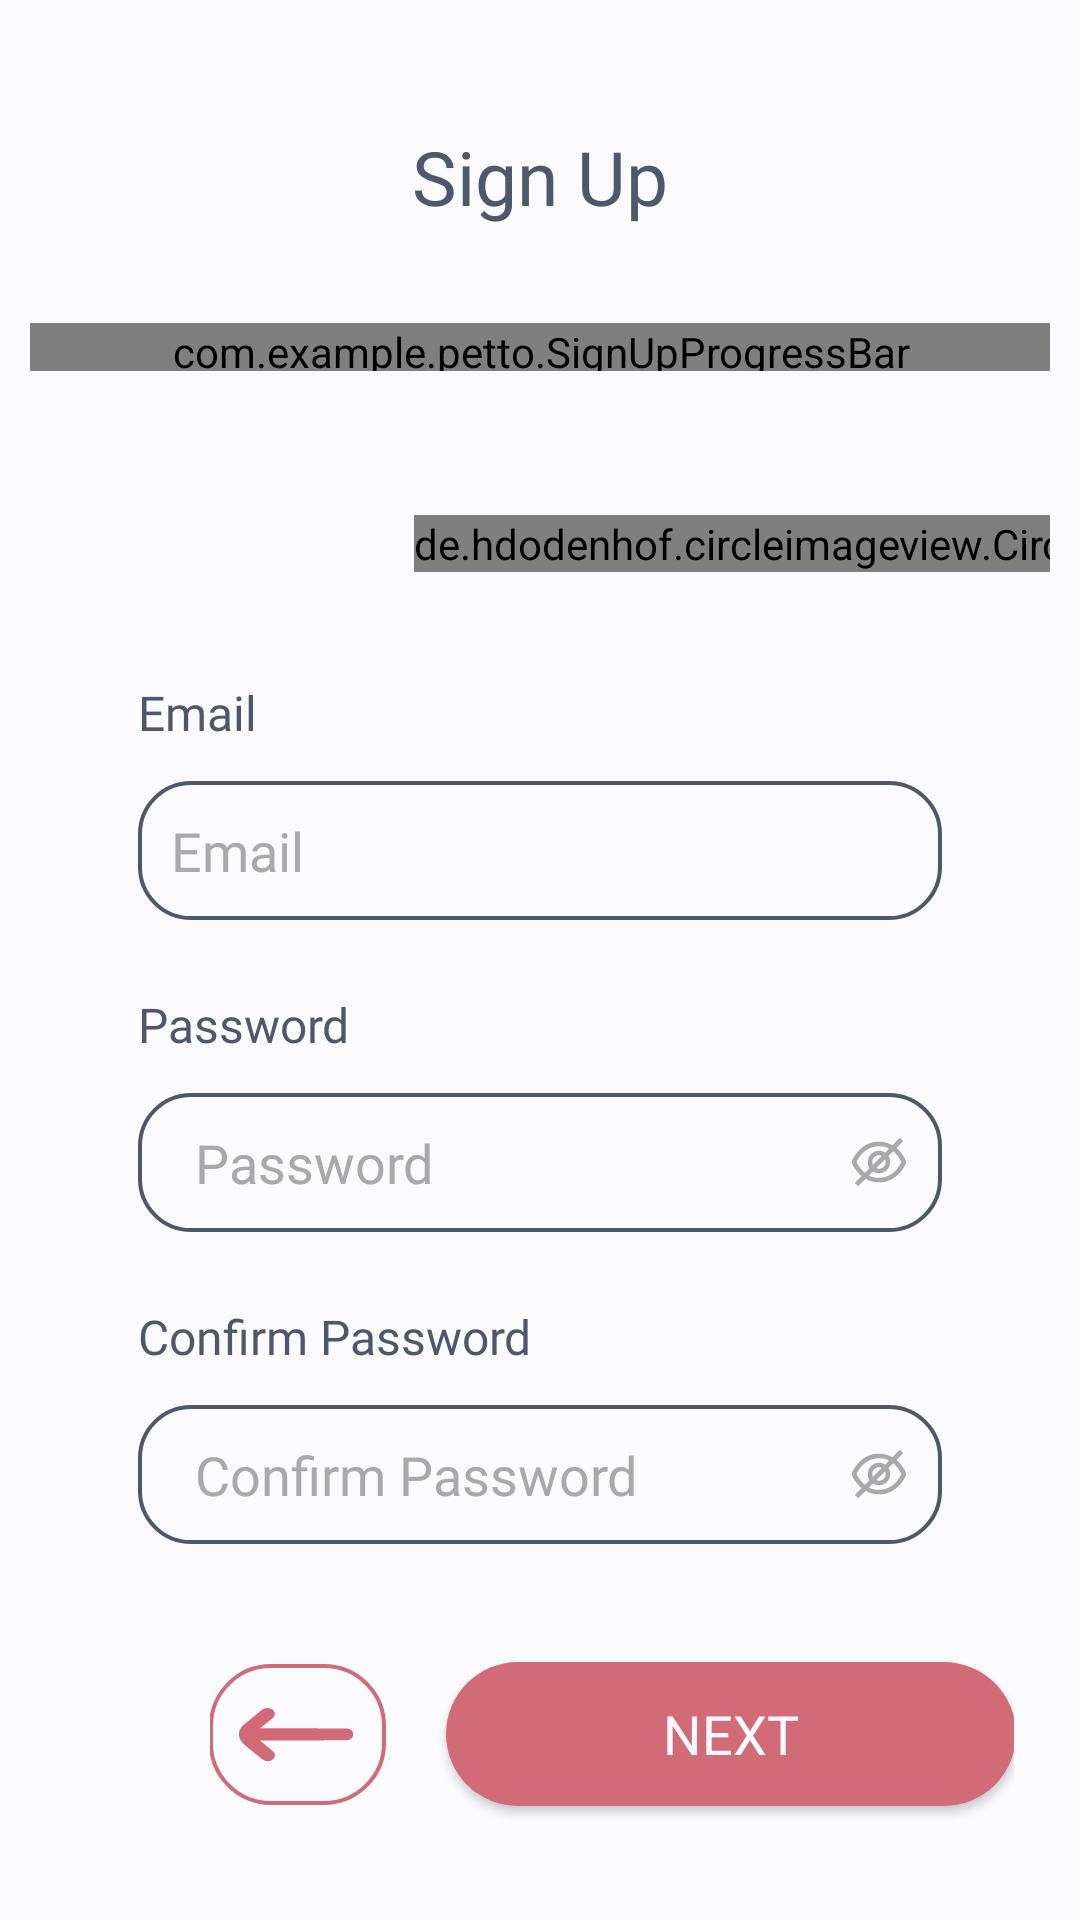

Where to tap for icons on this 1080px×1920px app screen, as (x=x, y=y):
Back: (x=298, y=1734)
